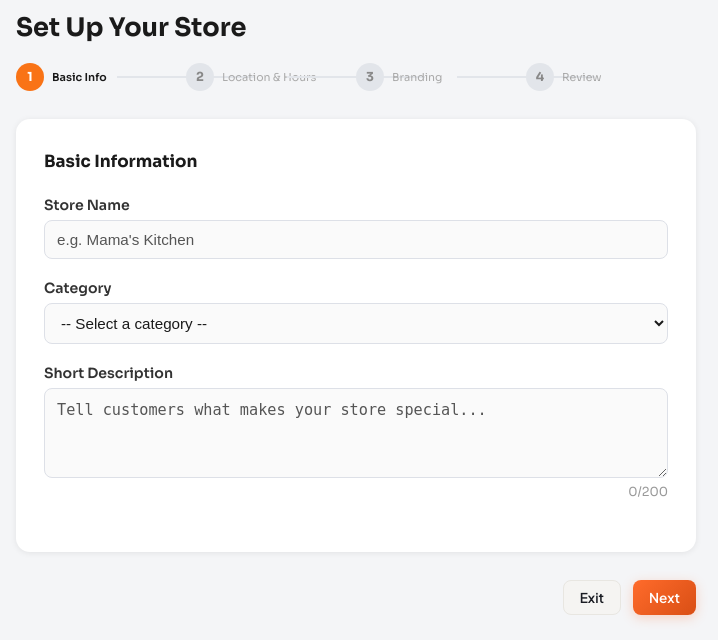
StoreSetup – rendering › updates the character counter as description is typed
In the text box with placeholder "Tell customers what makes your store special...": x=356, y=433 [44,388,668,478], type "Hello"
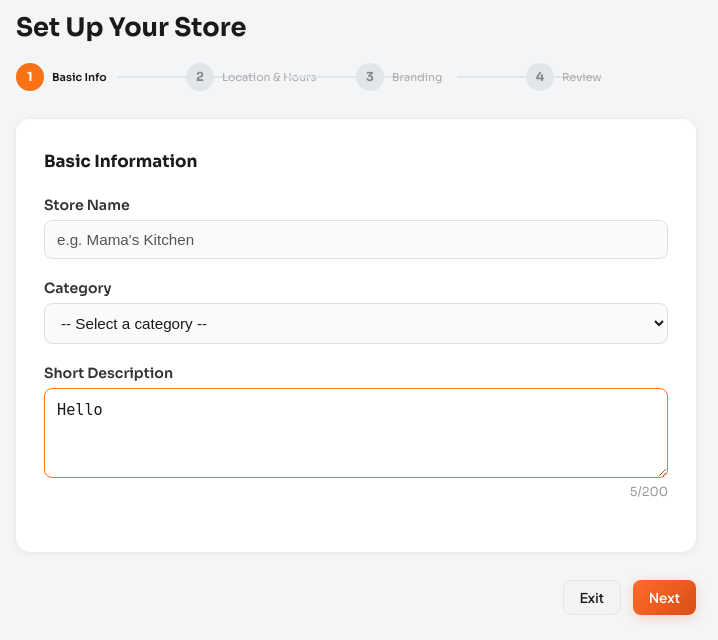
Check: the text "5/200" is shown, box [630,484,668,500]
